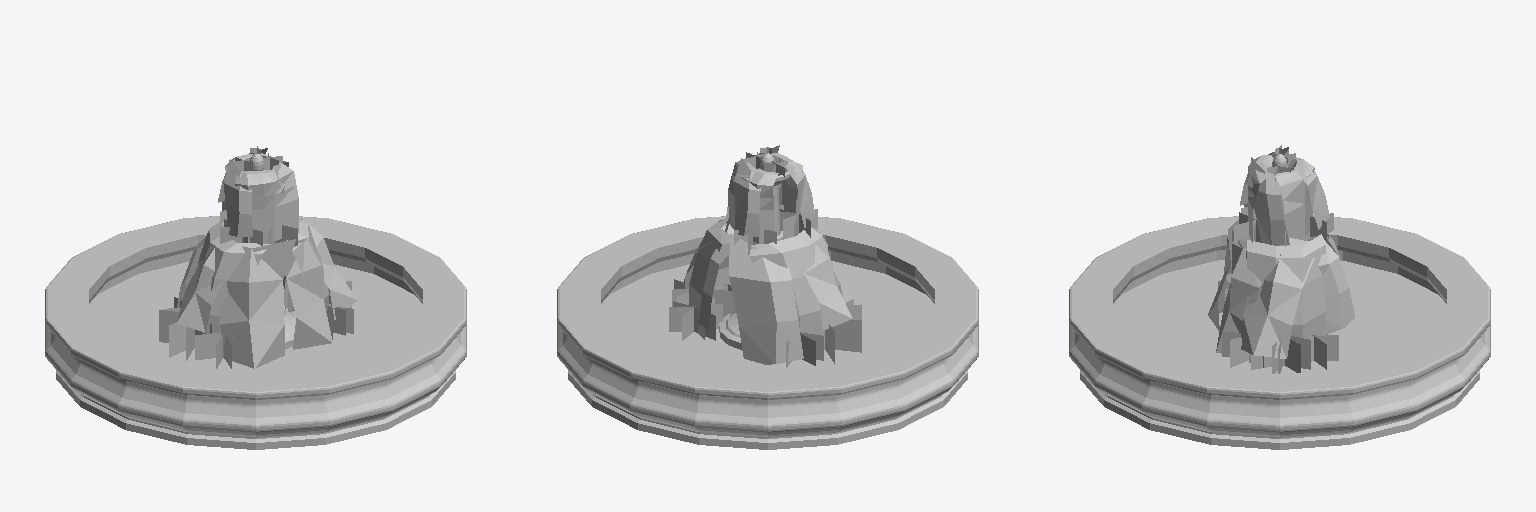
The model's file is forutain.obj.
3 renders of one model, left to right at view 1: azimuth 30°, elevation 25°; view 2: azimuth 150°, elevation 25°; view 3: azimuth 270°, elevation 25°, orthographic.
Parts seen in each view (by area): view 1: Object002, Object006, Object005, Plane001, Object007, Object004, Plane009, Plane008, Plane006; view 2: Object002, Plane001, Object008, Plane005, Plane009, Object003, Plane007, Object007, Plane010, Plane015; view 3: Object002, Object004, Object003, Object009, Object005, Plane007, Object008, Object006, Plane005, Plane006.
Boxes of the visible parts, <box> form: Object002: <box>45,153,466,449</box>; Object006: <box>220,239,295,368</box>; Object005: <box>278,237,332,349</box>; Plane001: <box>177,237,223,332</box>; Object007: <box>223,159,252,236</box>; Object004: <box>301,219,356,319</box>; Plane009: <box>159,310,211,360</box>; Plane008: <box>195,332,240,368</box>; Plane006: <box>326,304,353,339</box>; Object002: <box>557,153,978,449</box>; Plane001: <box>729,233,852,364</box>; Object008: <box>734,158,760,236</box>; Plane005: <box>669,298,722,340</box>; Plane009: <box>825,312,861,363</box>; Object003: <box>698,218,730,329</box>; Plane007: <box>672,279,735,317</box>; Object007: <box>785,165,814,227</box>; Plane010: <box>786,327,823,367</box>; Plane015: <box>780,209,817,238</box>; Object002: <box>1069,154,1490,449</box>; Object004: <box>1241,254,1314,358</box>; Object003: <box>1287,238,1354,335</box>; Object009: <box>1248,157,1289,245</box>; Object005: <box>1216,230,1261,358</box>; Plane007: <box>1249,336,1310,373</box>; Object008: <box>1294,166,1329,229</box>; Object006: <box>1208,220,1238,331</box>; Plane005: <box>1297,334,1338,369</box>; Plane006: <box>1222,331,1263,367</box>.
Bounding box in the file's own units: 6.82 × 3.81 × 6.72.